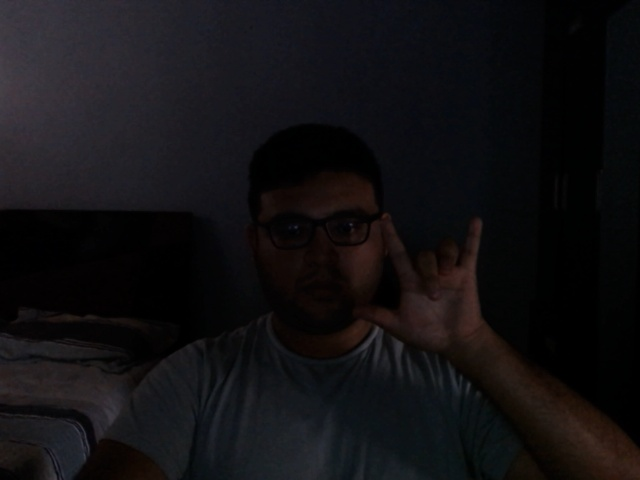I love you: (350, 205, 497, 363)
